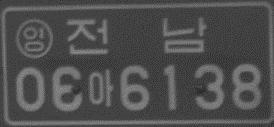0: (14, 66, 46, 112)
1: (155, 64, 186, 110)
3: (193, 62, 226, 111)
6: (118, 64, 150, 112), (51, 66, 85, 111)
8: (230, 62, 263, 111)
아: (87, 69, 114, 106)
영: (15, 18, 52, 59)
전남_D: (65, 16, 207, 58)
